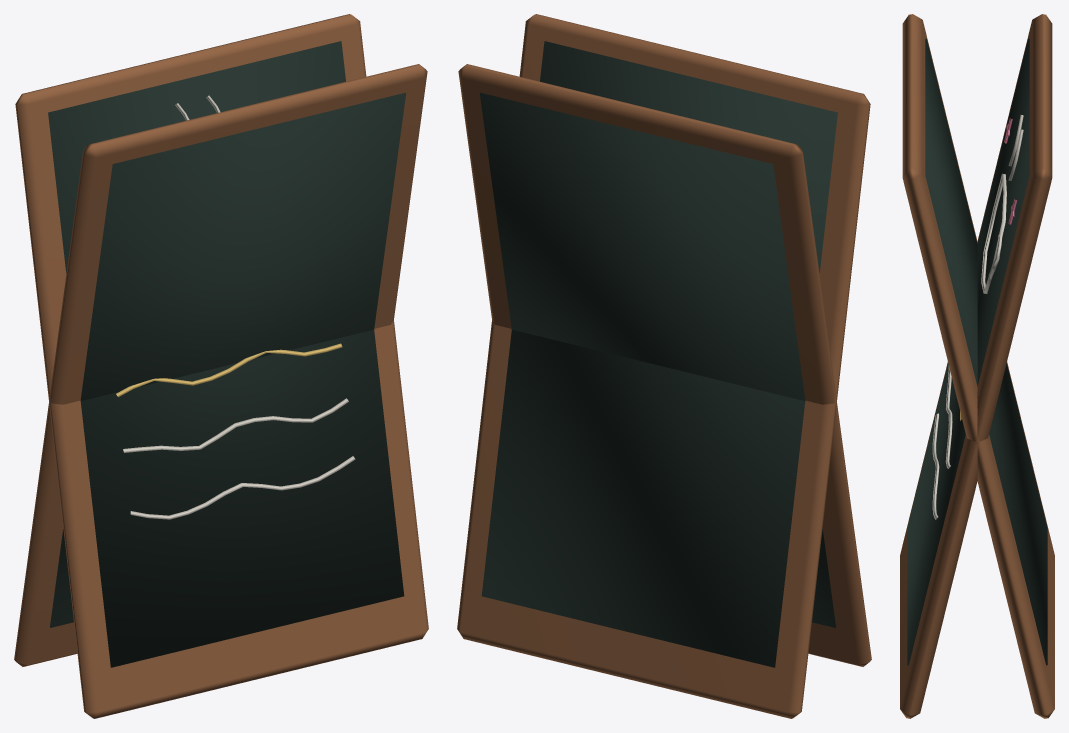
File: sandwich_board.glb
3 views of the same model, side by side, from view 1: azimuth 30°, elevation 25°; view 2: azimuth 150°, elevation 25°; view 3: azimuth 270°, elevation 25° (orthographic). The views are drawn at different scales.
Visible parts, largest first — view 1: sandwich_board; view 2: sandwich_board; view 3: sandwich_board.
Part boxes in pixels (x1,y1,x2,y2): sandwich_board: (14,14,428,718); sandwich_board: (457,14,871,718); sandwich_board: (900,14,1054,718).
Bounding box in the file's own units: 0.55 × 0.8796 × 0.224.
